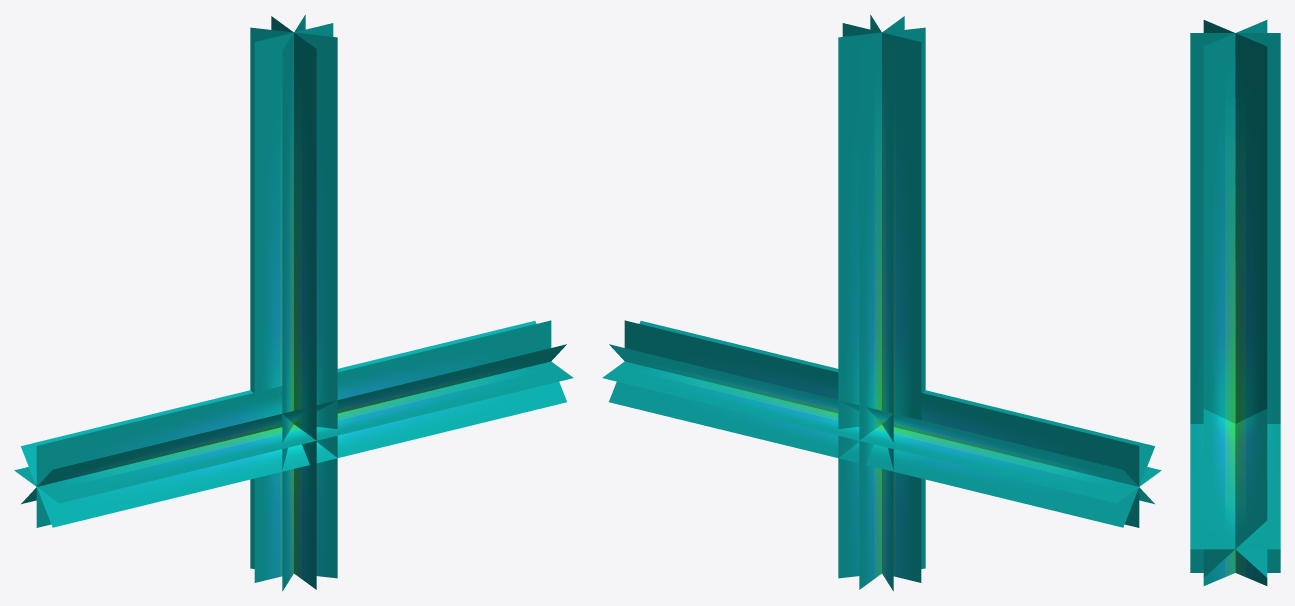
Rendered from FX_Priest_HealLight_001.FBX.
The picture shows the model from 3 angles, left to right: view 1: azimuth 30°, elevation 25°; view 2: azimuth 150°, elevation 25°; view 3: azimuth 270°, elevation 25°; orthographic projection.
Visible parts, largest first — view 1: FX_Priest_HealLight_001; view 2: FX_Priest_HealLight_001; view 3: FX_Priest_HealLight_001.
Part boxes in pixels (x1,y1,x2,y2): FX_Priest_HealLight_001: (14, 14, 573, 591); FX_Priest_HealLight_001: (602, 14, 1161, 591); FX_Priest_HealLight_001: (1190, 20, 1280, 585).
Bounding box in the file's own units: 1011 × 1015 × 154.
